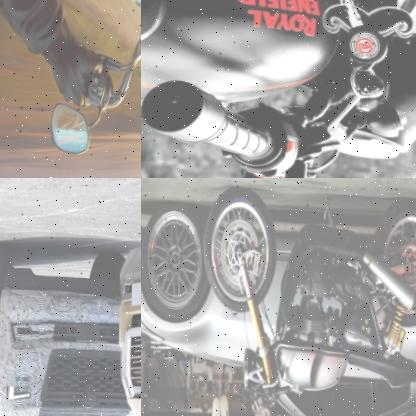bike: (141, 0, 416, 178), (219, 190, 416, 411), (51, 0, 141, 170)
car: (141, 189, 416, 416), (0, 269, 121, 416)
